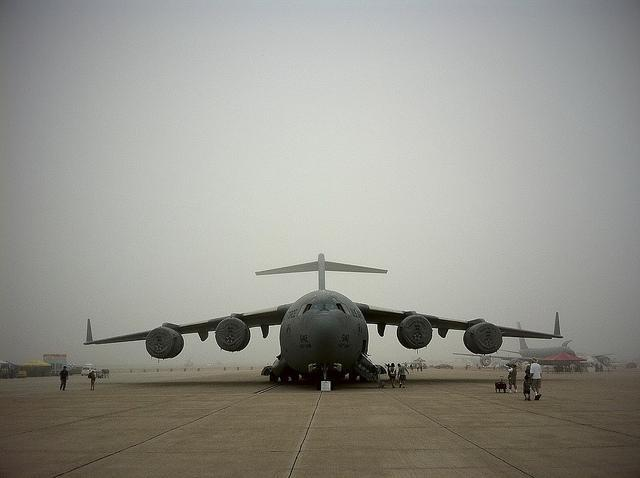car: (80, 366, 94, 376)
